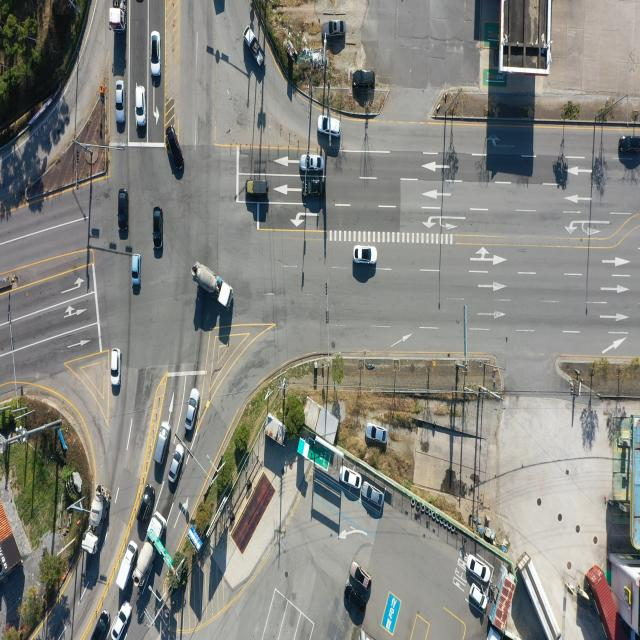car: (109, 602, 131, 640), (167, 125, 184, 170), (91, 606, 112, 640), (137, 486, 155, 525), (156, 421, 172, 464), (168, 442, 185, 482), (469, 556, 492, 583), (184, 388, 198, 432), (344, 588, 366, 616), (351, 561, 372, 590), (362, 484, 384, 508), (321, 117, 344, 139), (341, 465, 362, 489), (136, 88, 148, 130), (469, 583, 486, 611), (150, 32, 160, 77), (114, 80, 124, 125), (118, 187, 128, 232), (301, 155, 325, 173), (365, 423, 387, 442), (110, 350, 121, 388), (353, 246, 376, 264), (352, 70, 375, 88), (619, 136, 640, 155), (304, 180, 326, 198), (246, 179, 268, 196), (326, 20, 346, 37), (153, 208, 161, 249), (132, 252, 142, 284)
medium_truck: (522, 552, 562, 638), (132, 514, 166, 591), (192, 260, 232, 309), (84, 494, 109, 556), (110, 0, 124, 31)
small_truck: (118, 540, 140, 591), (243, 26, 263, 68)
